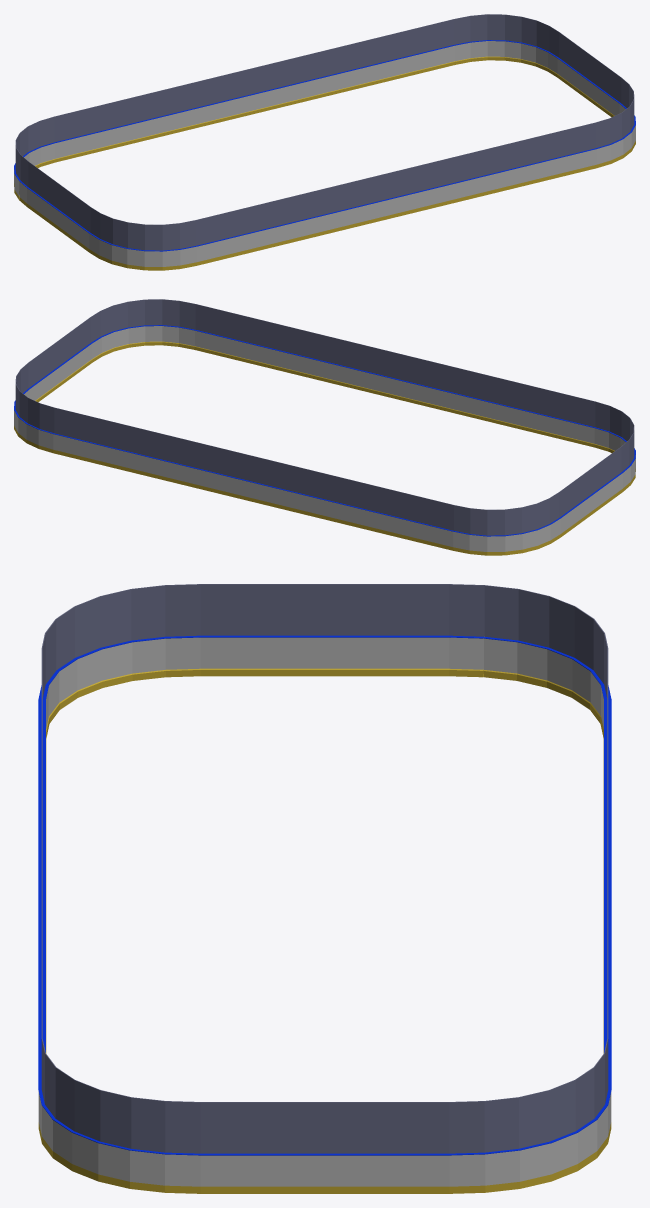
The model's file is minirink.glb.
The picture shows the model from 3 angles, top to bottom: view 1: azimuth 30°, elevation 25°; view 2: azimuth 150°, elevation 25°; view 3: azimuth 270°, elevation 25°; orthographic projection. The views are drawn at different scales.
Parts seen in each view (by area): view 1: Boards; view 2: Boards; view 3: Boards.
Boxes of the visible parts, x1=… form: Boards: x1=14, y1=14, x2=635, y2=270; Boards: x1=14, y1=299, x2=635, y2=555; Boards: x1=38, y1=584, x2=611, y2=1193.
Bounding box in the file's own units: 26.16 × 2.11 × 12.16.
